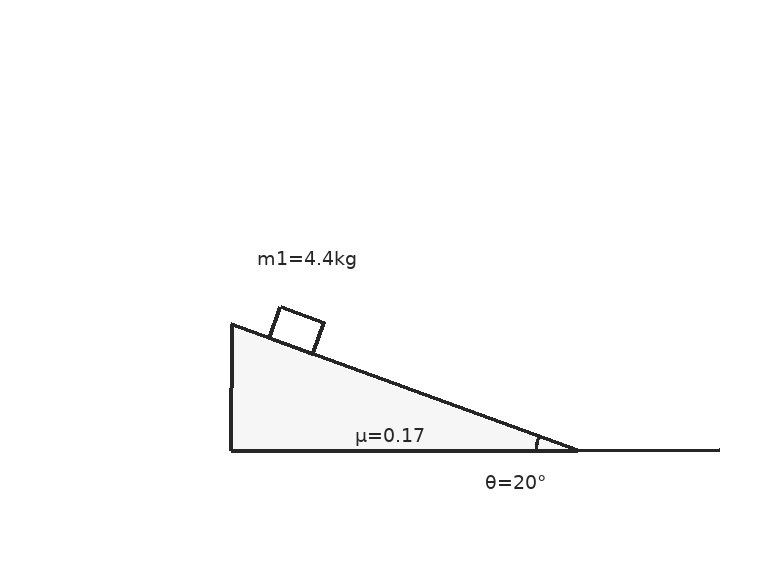block: (267, 304, 326, 356)
ramp: (229, 322, 578, 452)
